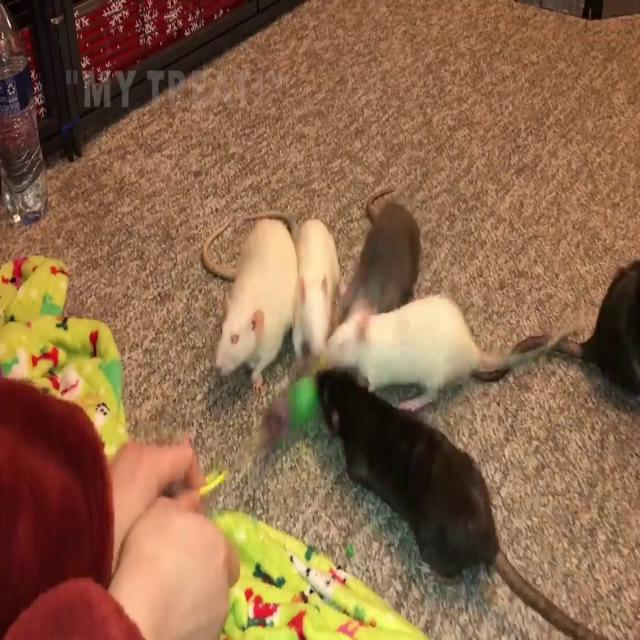rat: (317, 372, 604, 636), (318, 295, 560, 409), (201, 214, 296, 382), (342, 193, 422, 325), (294, 216, 340, 369)
